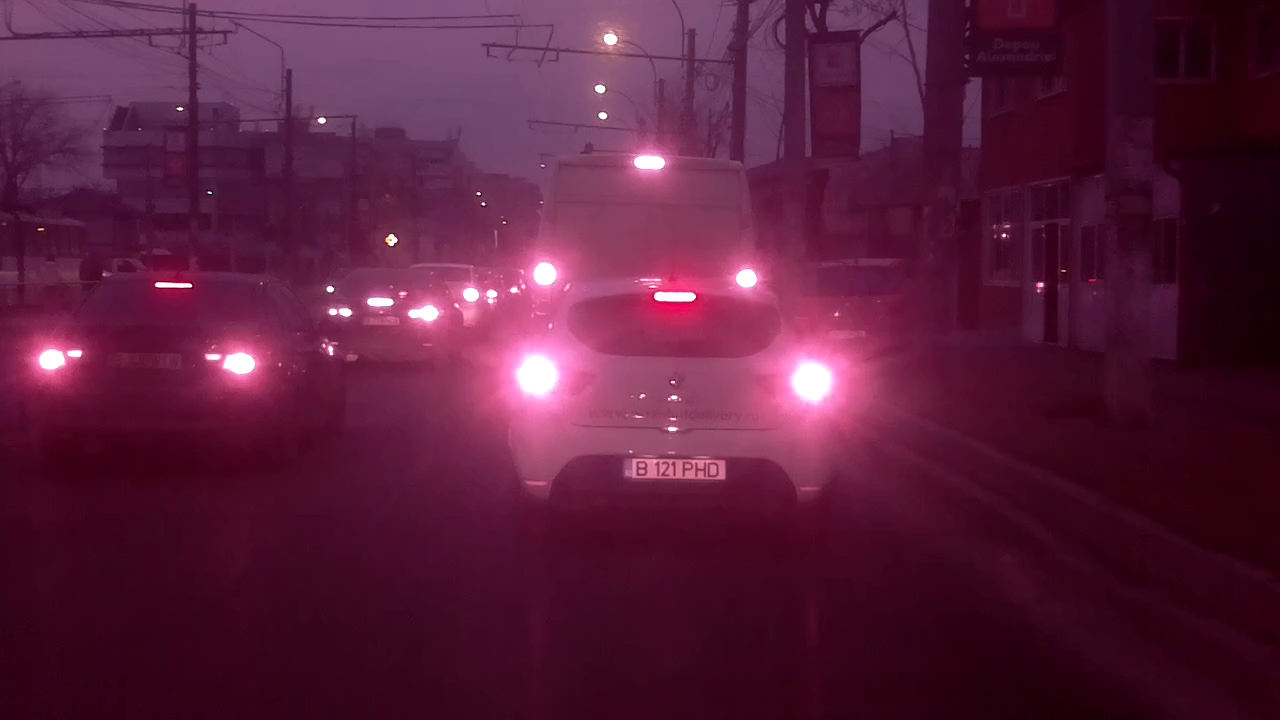license-plate: (617, 453, 729, 483)
